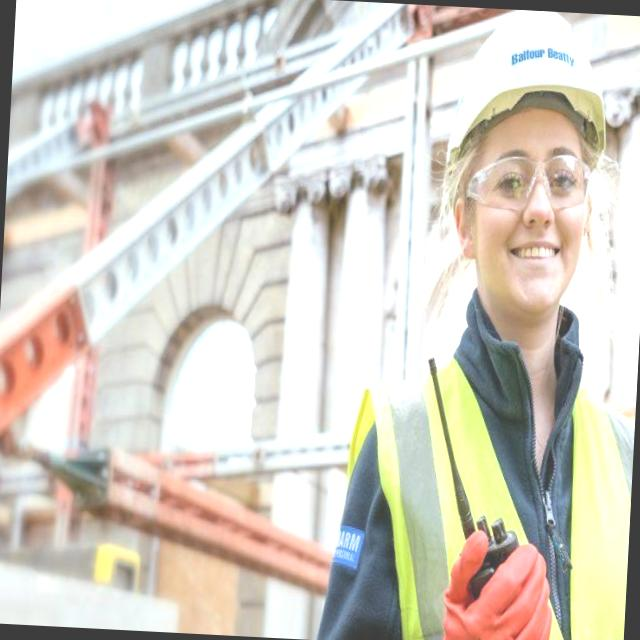helmet: (440, 10, 624, 179)
no-vest: (332, 318, 639, 640)
